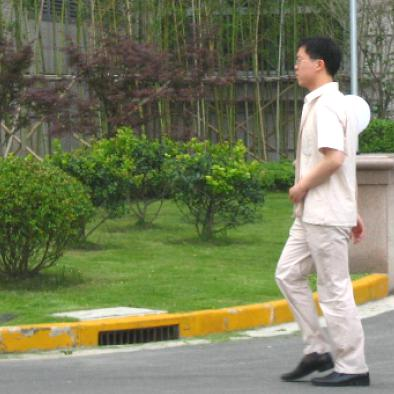ped: (275, 37, 369, 386)
